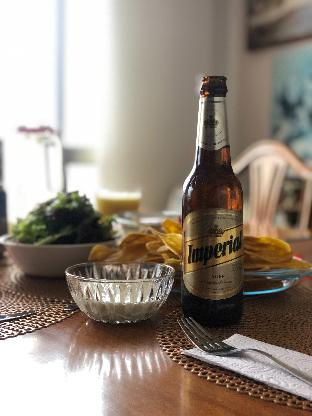Glass Bottle: (182, 76, 244, 326)
